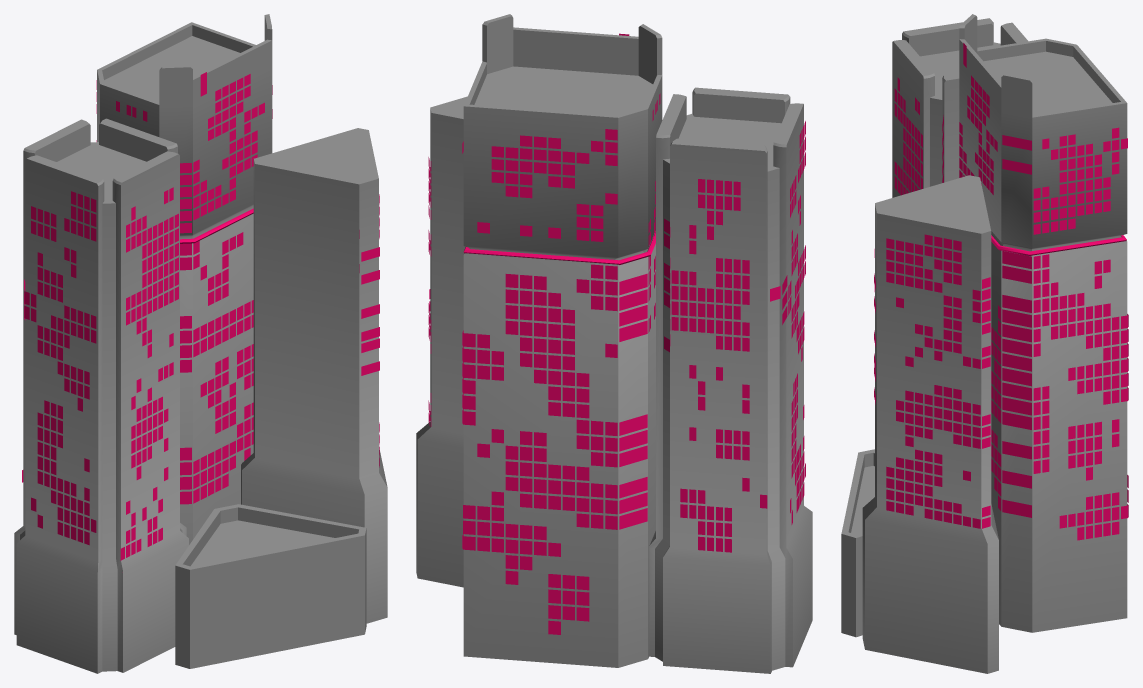
File: obj_bbuilding006.FBX
3 renders of one model, left to right at view 1: azimuth 30°, elevation 25°; view 2: azimuth 150°, elevation 25°; view 3: azimuth 270°, elevation 25°, orthographic. The views are drawn at different scales.
Parts seen in each view (by area): view 1: Box029, Object008; view 2: Box029, Object008, Shape; view 3: Box029, Object008, Shape.
Part boxes in pixels (x1,y1,x2,y2): Box029: [14, 14, 387, 673]; Object008: [22, 72, 379, 560]; Box029: [416, 14, 812, 673]; Object008: [428, 33, 805, 634]; Shape: [463, 232, 655, 264]; Box029: [841, 14, 1127, 673]; Object008: [874, 43, 1128, 540]; Shape: [991, 235, 1126, 255].
Bounding box in the file's own units: 17462 × 25865 × 12196.
